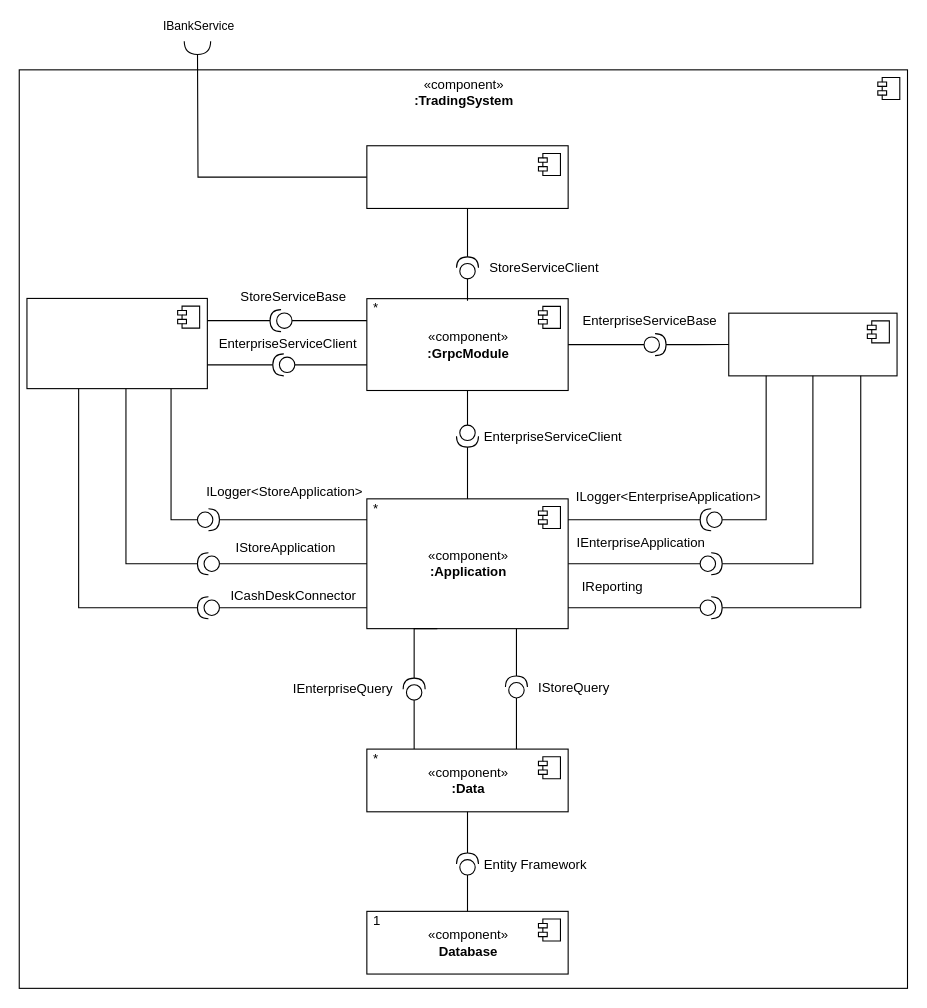
This 927x1008 diagram has some shape labels left out. Here are the shapes that lost their labels. From the top down, the centre of each, then its label:
At point 467,176: "«component» :CashDesk".
At point 116,343: "«component» :WebServerStore".
At point 812,344: "«component» :WebServerEnterprise".
